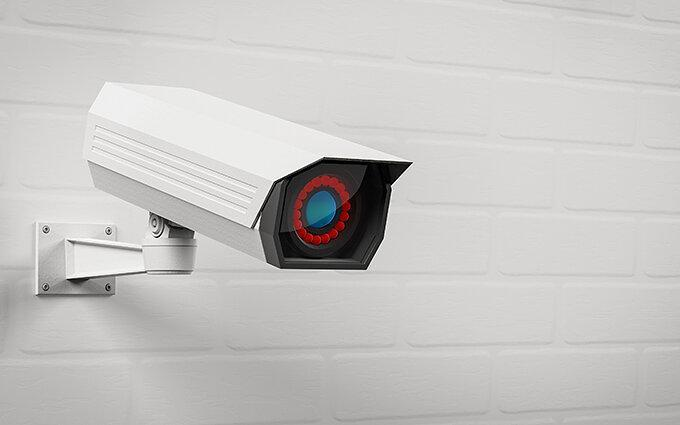tutu: (81, 80, 415, 275)
